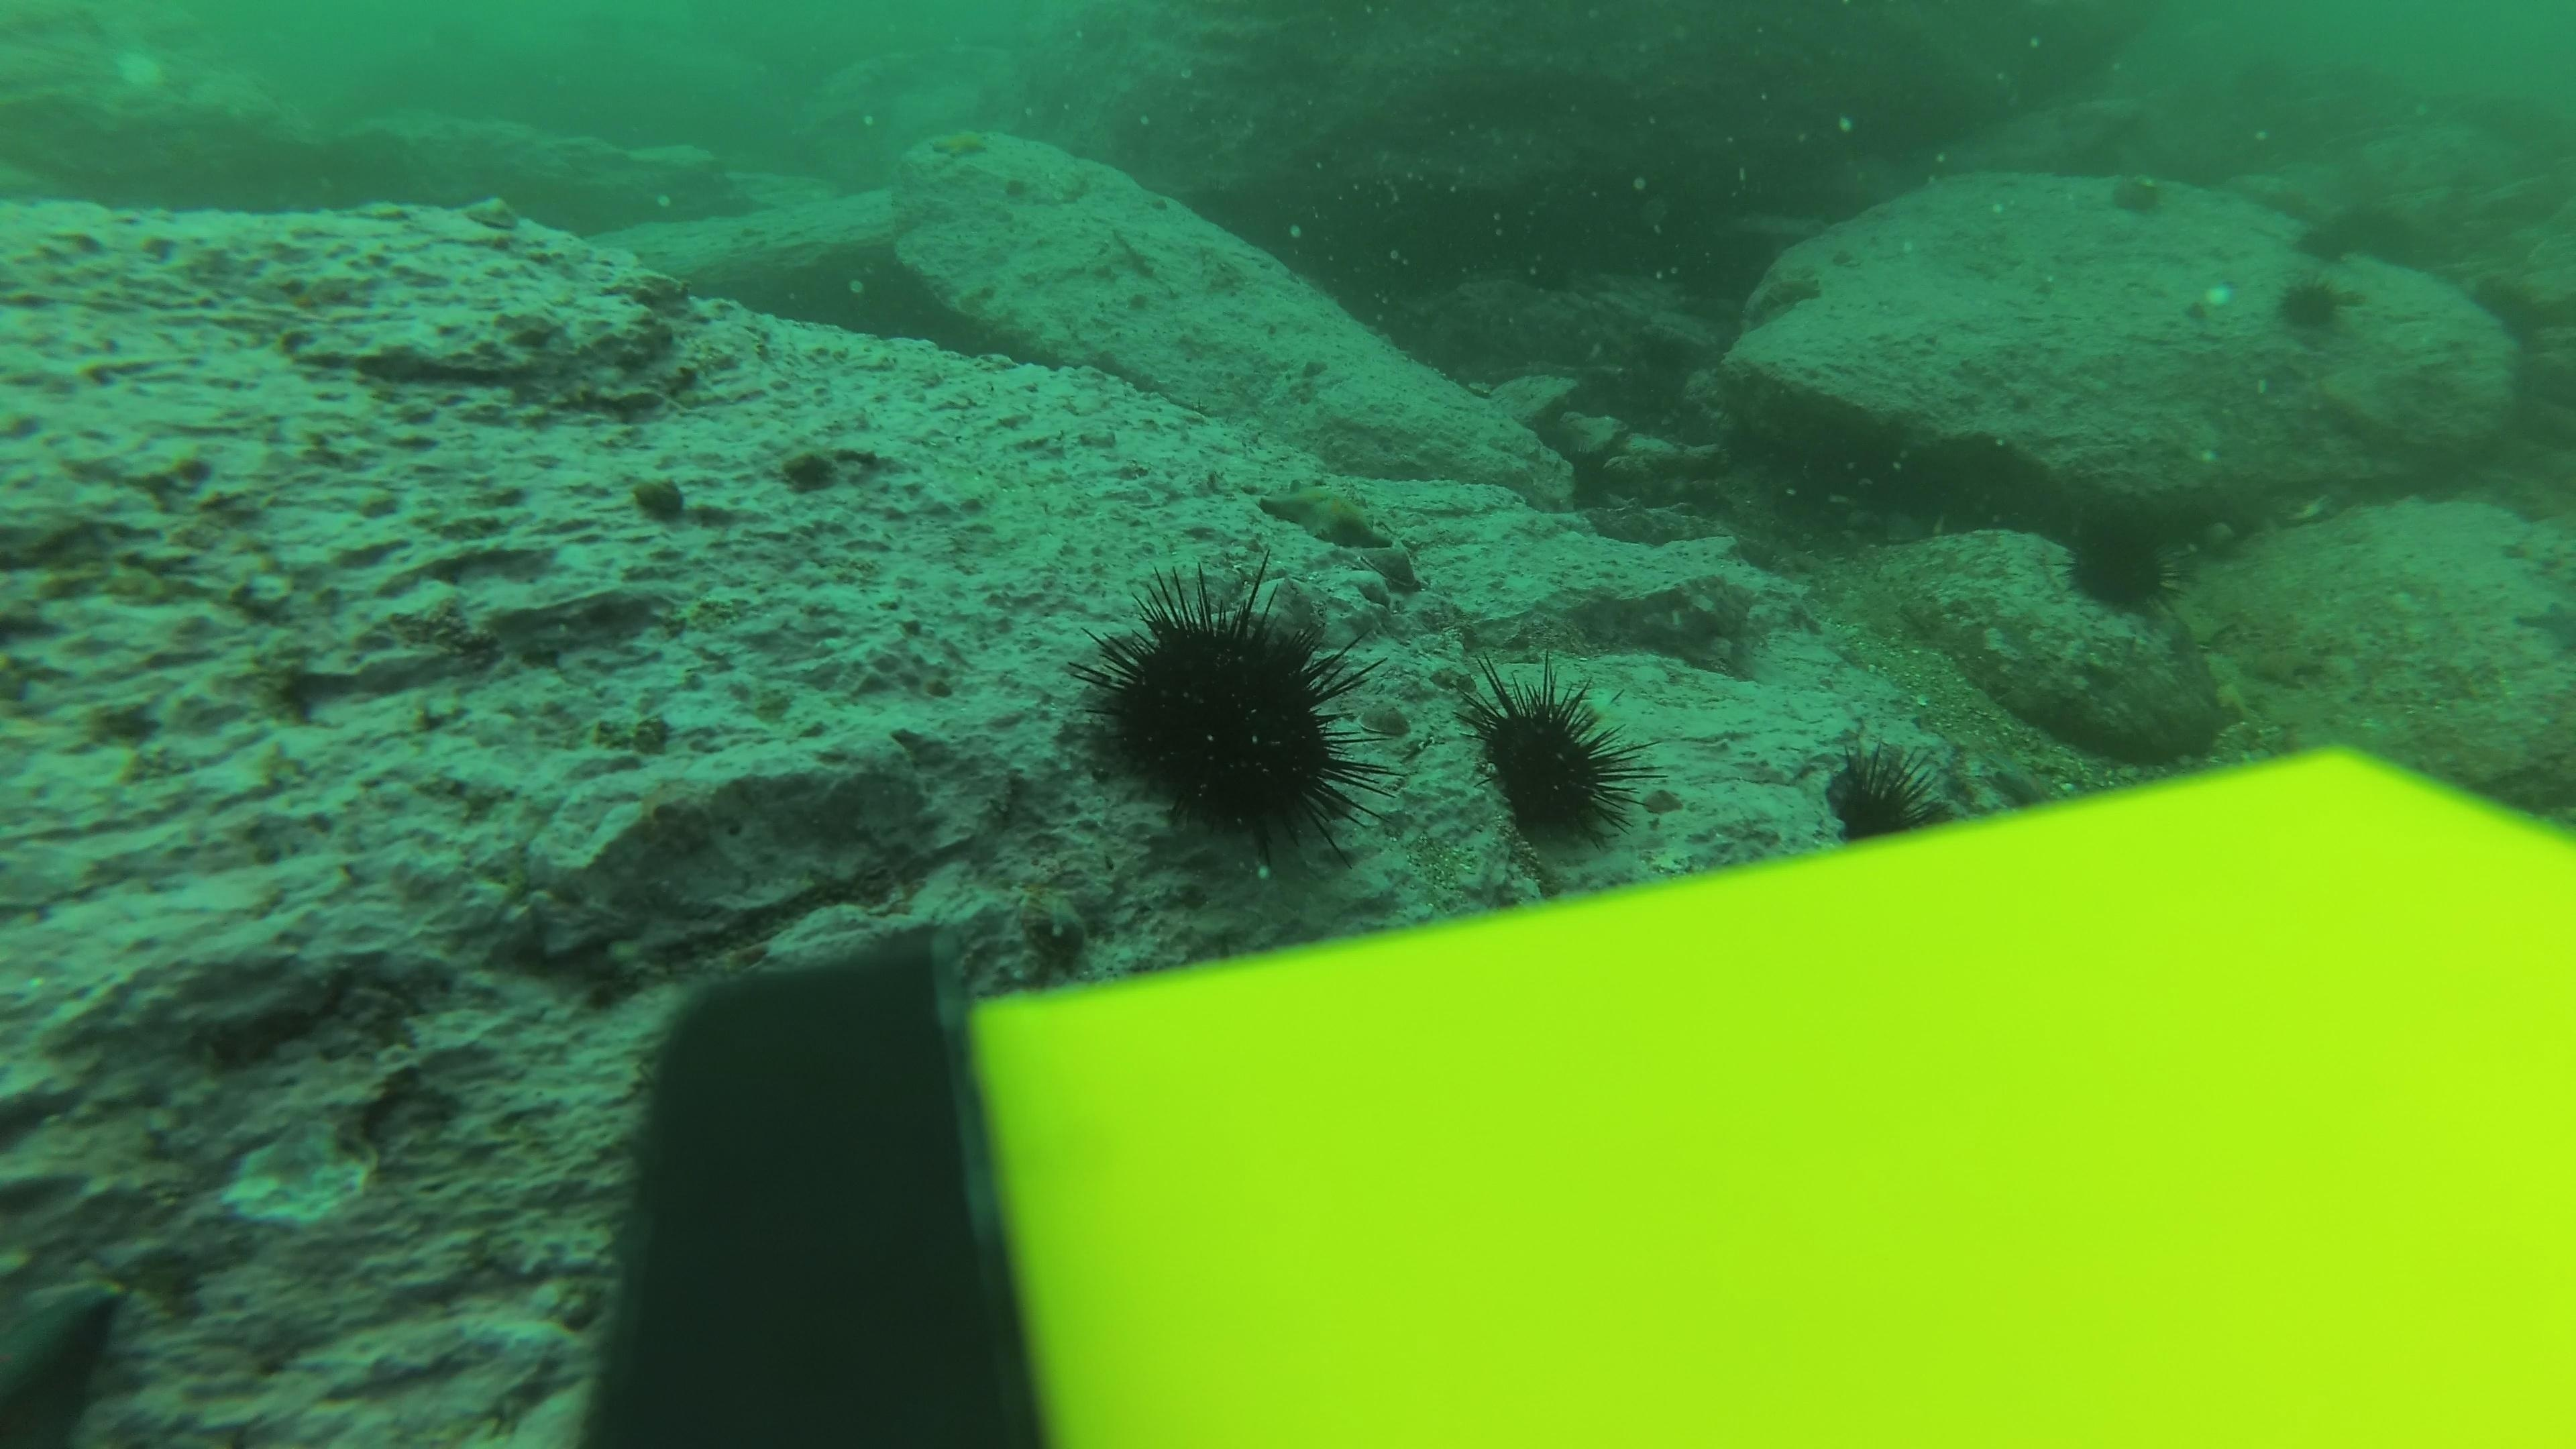echinus: (1072, 563, 1391, 869), (1460, 663, 1647, 855), (2054, 502, 2187, 619), (1815, 738, 1953, 847), (2273, 267, 2367, 345), (1622, 318, 1693, 377), (1557, 435, 1619, 487), (2293, 219, 2357, 267)
starfish: (0, 1265, 145, 1440), (1251, 478, 1410, 556), (1739, 260, 1829, 322), (909, 120, 998, 170), (2514, 596, 2576, 658)
